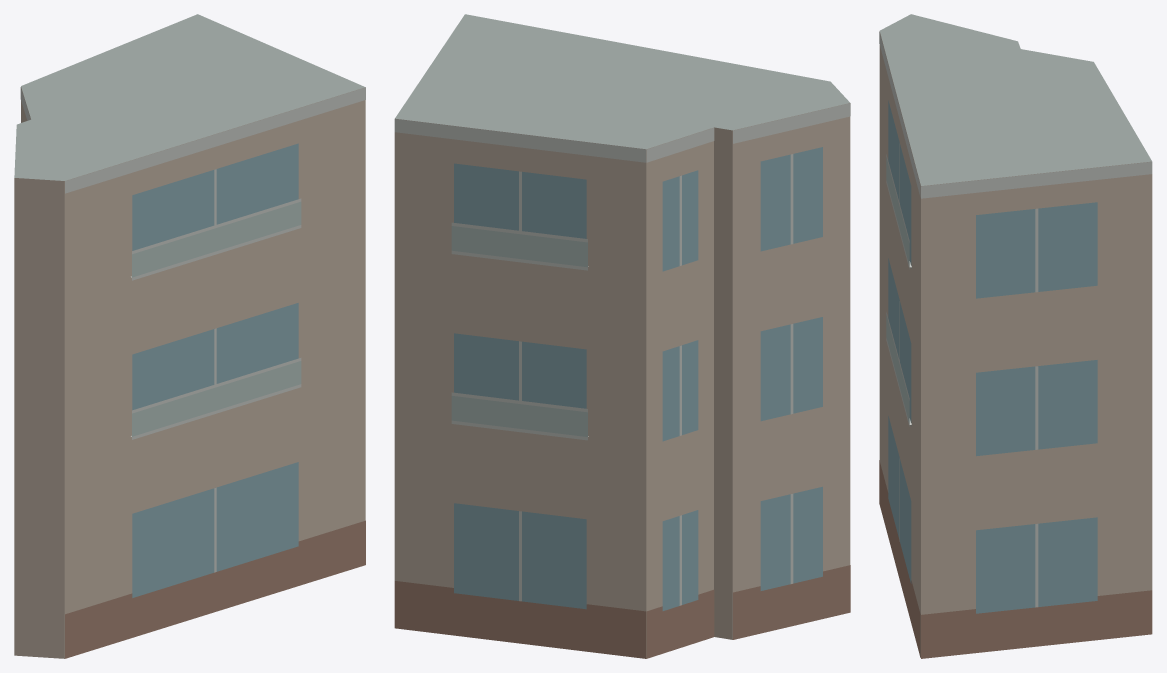
File: survey-upis-32459809.glb
3 views of the same model, side by side, from view 1: azimuth 30°, elevation 25°; view 2: azimuth 150°, elevation 25°; view 3: azimuth 270°, elevation 25° (orthographic). The views are drawn at different scales.
Parts seen in each view (by area): view 1: survey-upis-32459809.tmp; view 2: survey-upis-32459809.tmp; view 3: survey-upis-32459809.tmp.
Boxes of the visible parts, x1,y1,x2,y2 form: survey-upis-32459809.tmp: (14, 14, 365, 658); survey-upis-32459809.tmp: (394, 14, 850, 658); survey-upis-32459809.tmp: (879, 14, 1152, 658).
Bounding box in the file's own units: 7.15 × 9.15 × 4.8.
